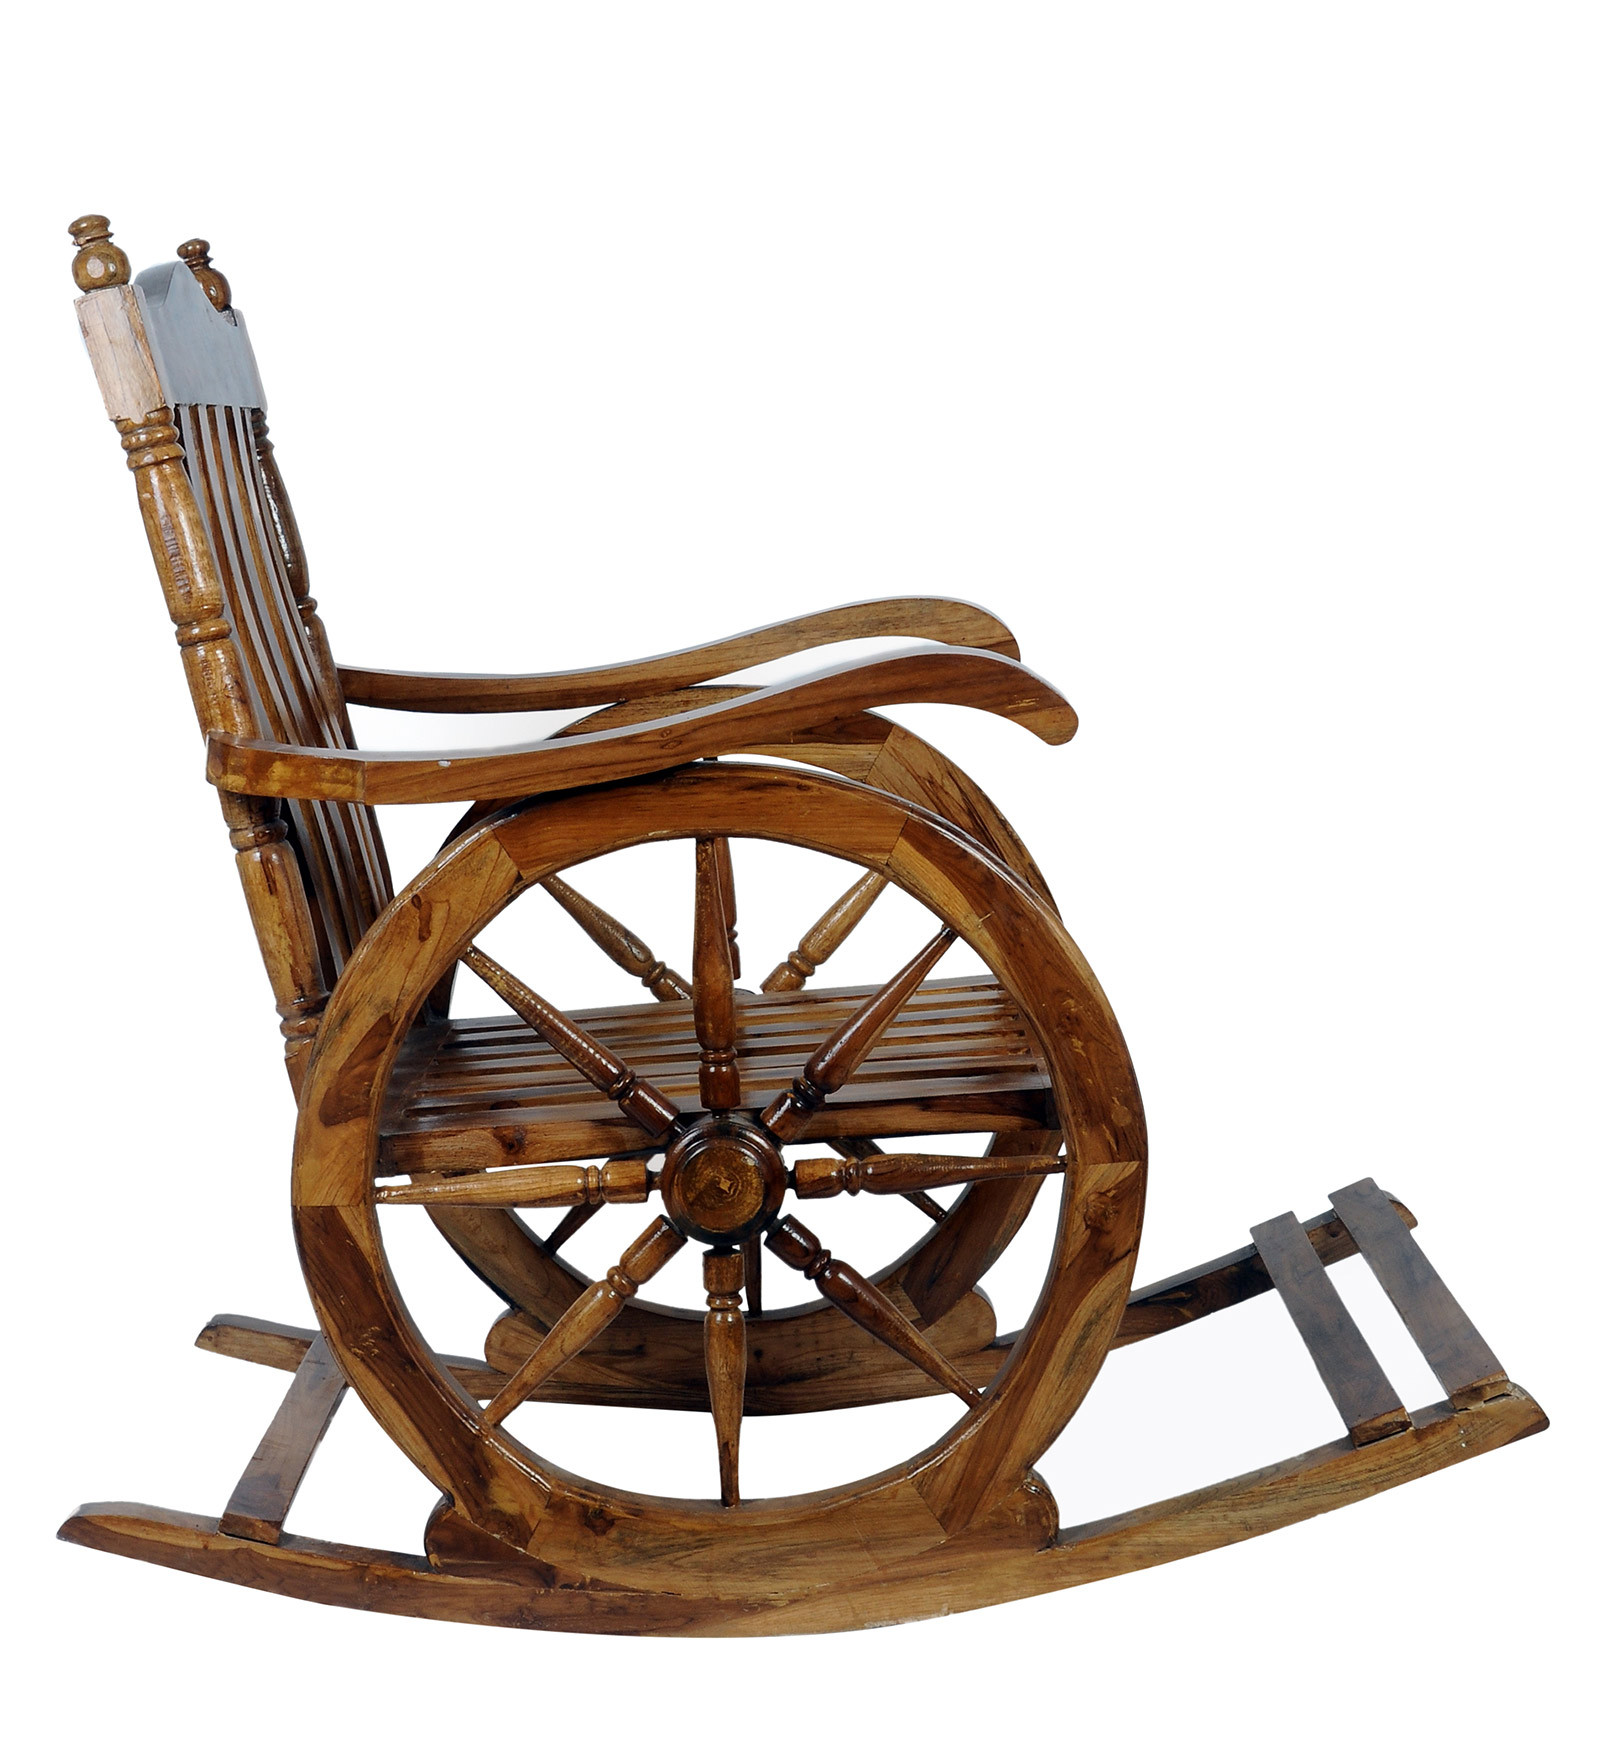Chariot Teak Wood Rocking Chair in Natural Finish by Furniease: (21, 190, 1582, 1627)
